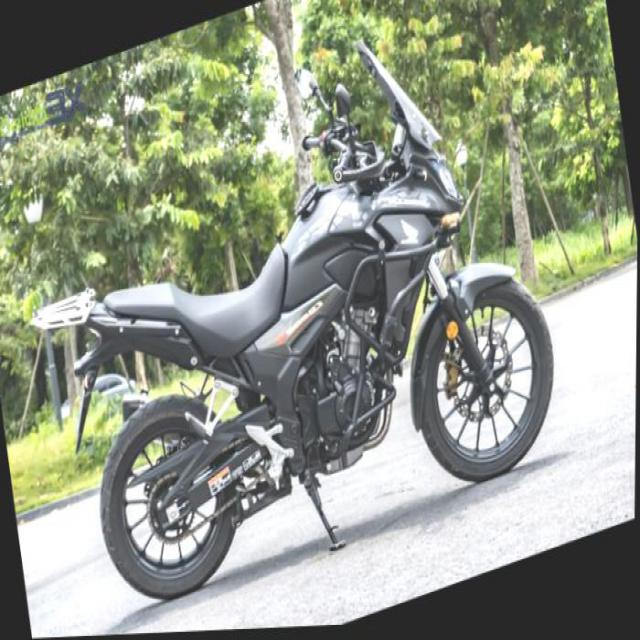CB500X: (45, 0, 573, 627)
